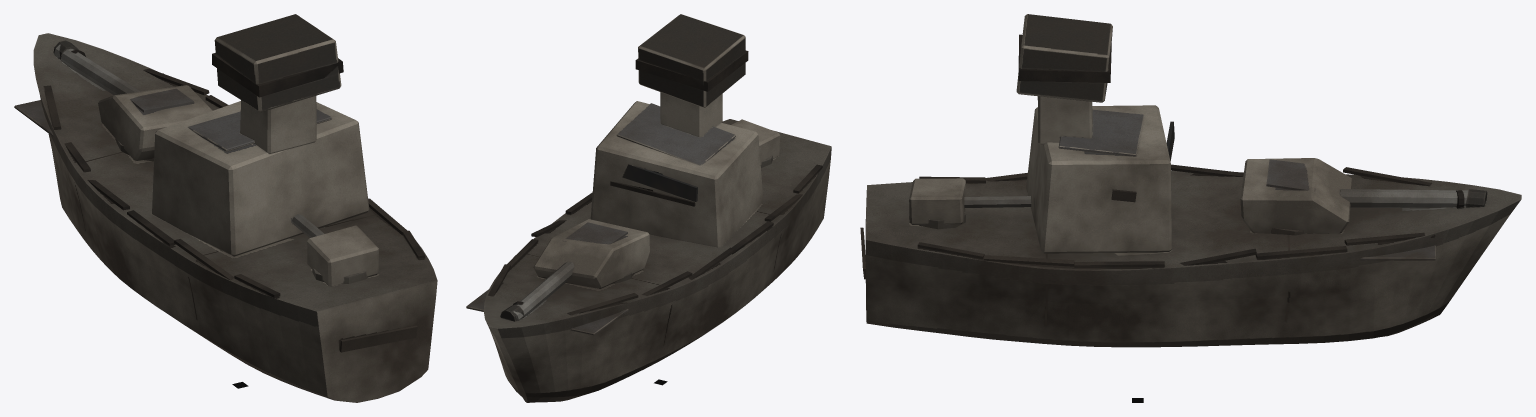
File: ord_sentry_wreck.fbx
3 views of the same model, side by side, from view 1: azimuth 30°, elevation 25°; view 2: azimuth 150°, elevation 25°; view 3: azimuth 270°, elevation 25° (orthographic). The views are drawn at different scales.
Parts seen in each view (by area): view 1: base_bar, radar_bar, turret1_bar, turret2_bar; view 2: base_bar, radar_bar, turret1_bar, turret2_bar; view 3: base_bar, turret1_bar, radar_bar, turret2_bar.
Part boxes in pixels (bbox=[...]): base_bar: bbox=[14, 33, 437, 402]; radar_bar: bbox=[212, 14, 343, 112]; turret1_bar: bbox=[53, 40, 212, 161]; turret2_bar: bbox=[292, 214, 378, 286]; base_bar: bbox=[466, 92, 831, 402]; radar_bar: bbox=[635, 14, 748, 107]; turret1_bar: bbox=[500, 219, 649, 321]; turret2_bar: bbox=[731, 119, 780, 167]; base_bar: bbox=[860, 96, 1521, 347]; turret1_bar: bbox=[1240, 158, 1487, 235]; radar_bar: bbox=[1016, 14, 1112, 102]; turret2_bar: bbox=[909, 178, 1031, 229].
Bounding box in the file's own units: 385 × 684 × 1103.
2 materials, 2 textured.
